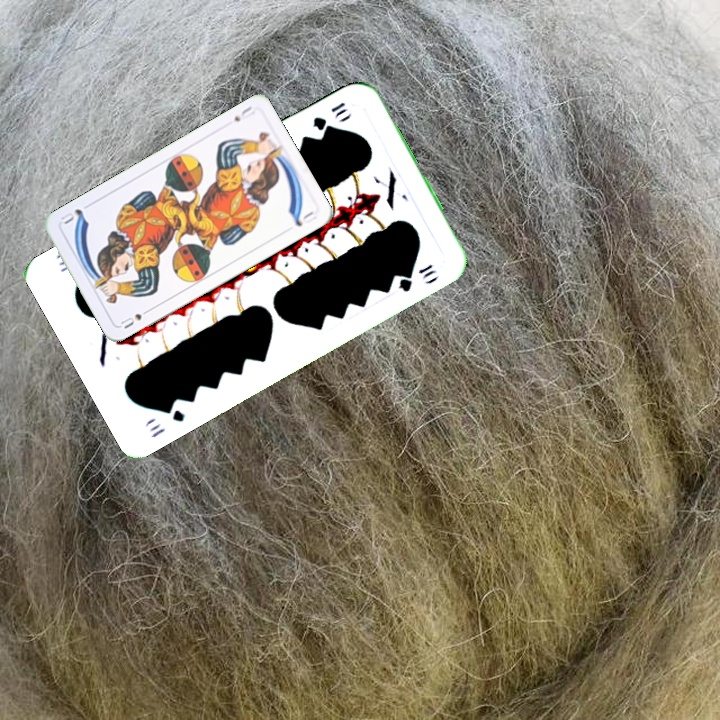G10: (145, 400, 188, 441), (309, 98, 351, 134)
SU: (117, 304, 154, 331), (229, 102, 257, 124)
